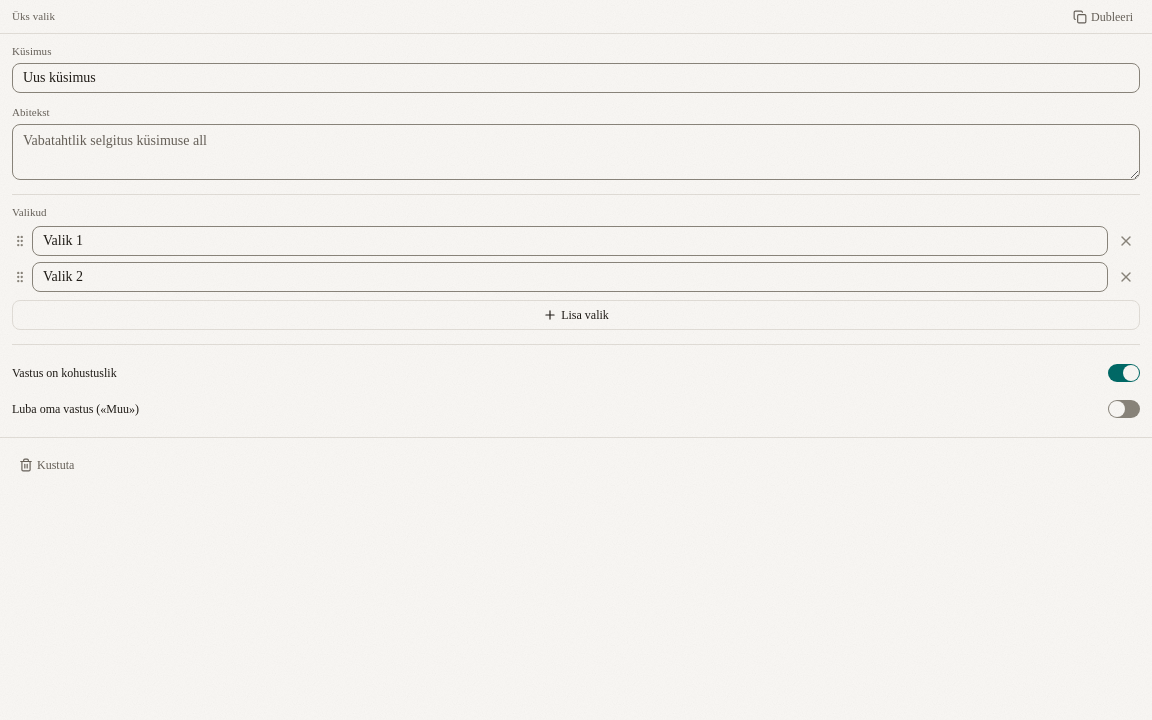
Test: deleting an element › asks before it deletes
Click the button "Kustuta": coordinates (56, 465) [12,450,1140,480]
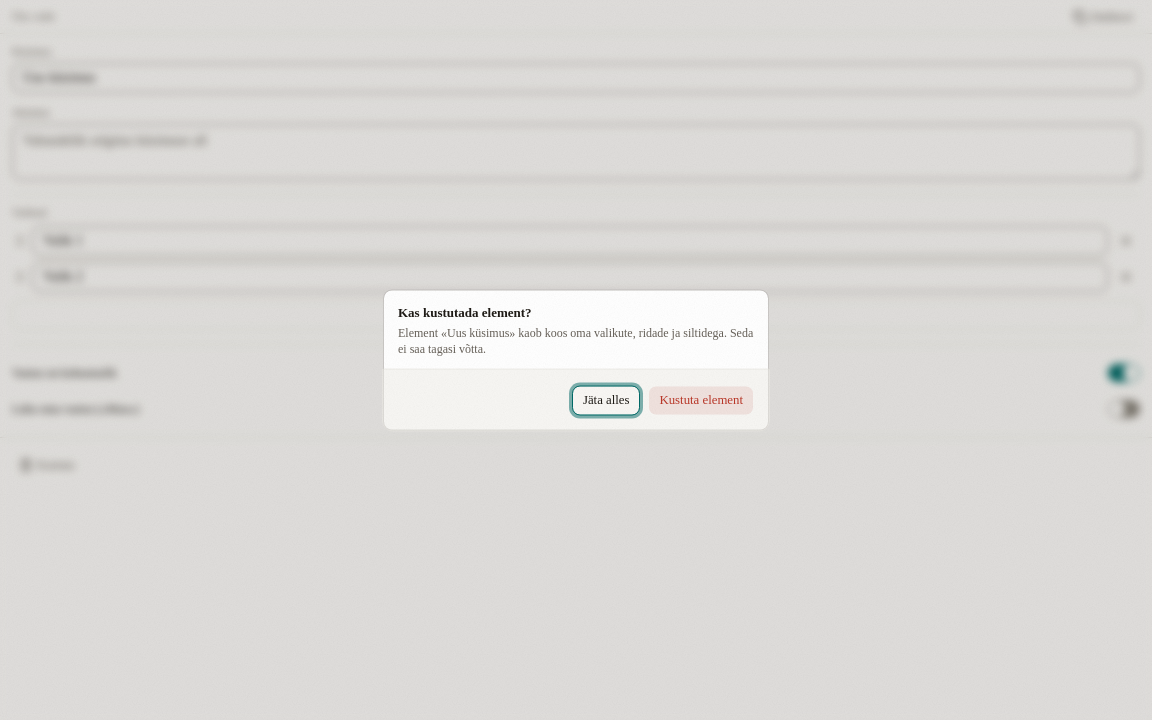
Result: the heading "Kas kustutada element?" is shown at [398,304,532,320]
